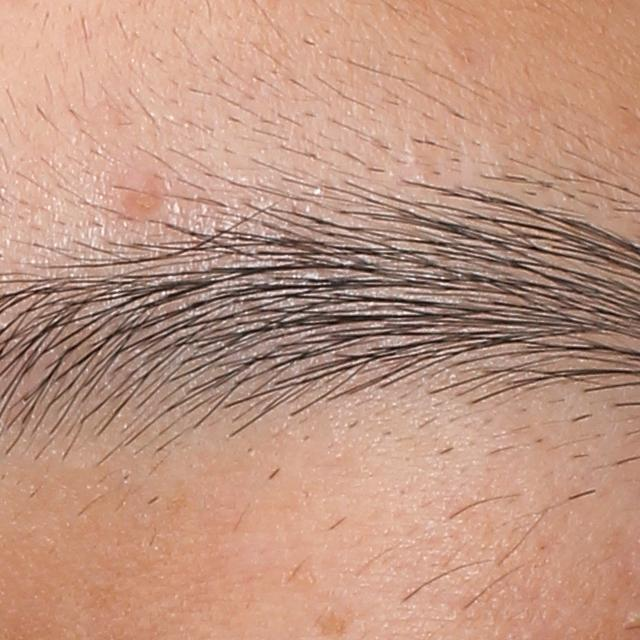melasma: (315, 608, 355, 639)
